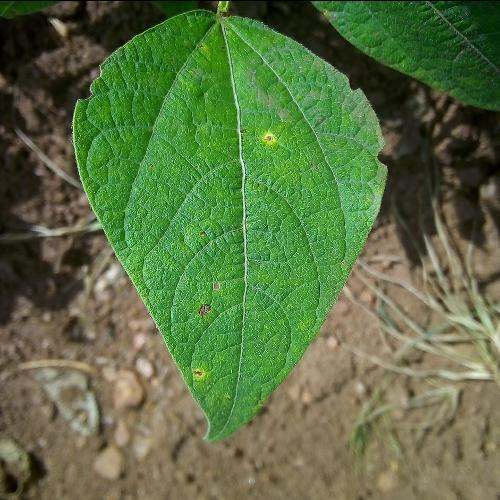sehat: (142, 79, 332, 340)
